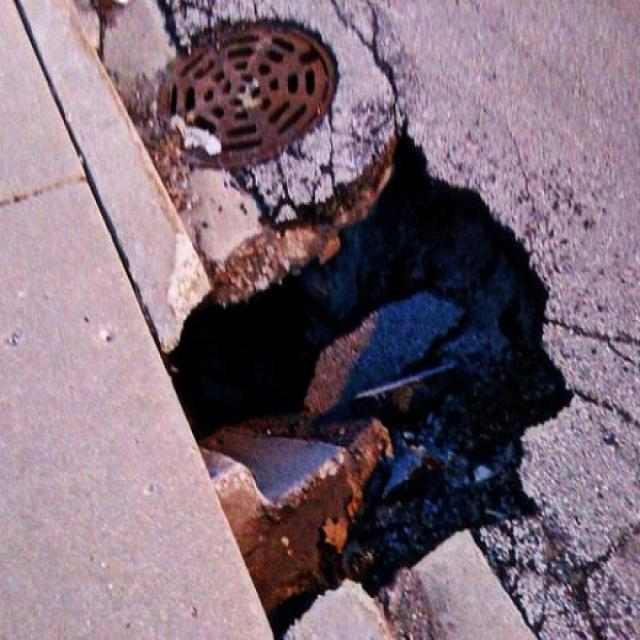pothole: (147, 121, 584, 637)
